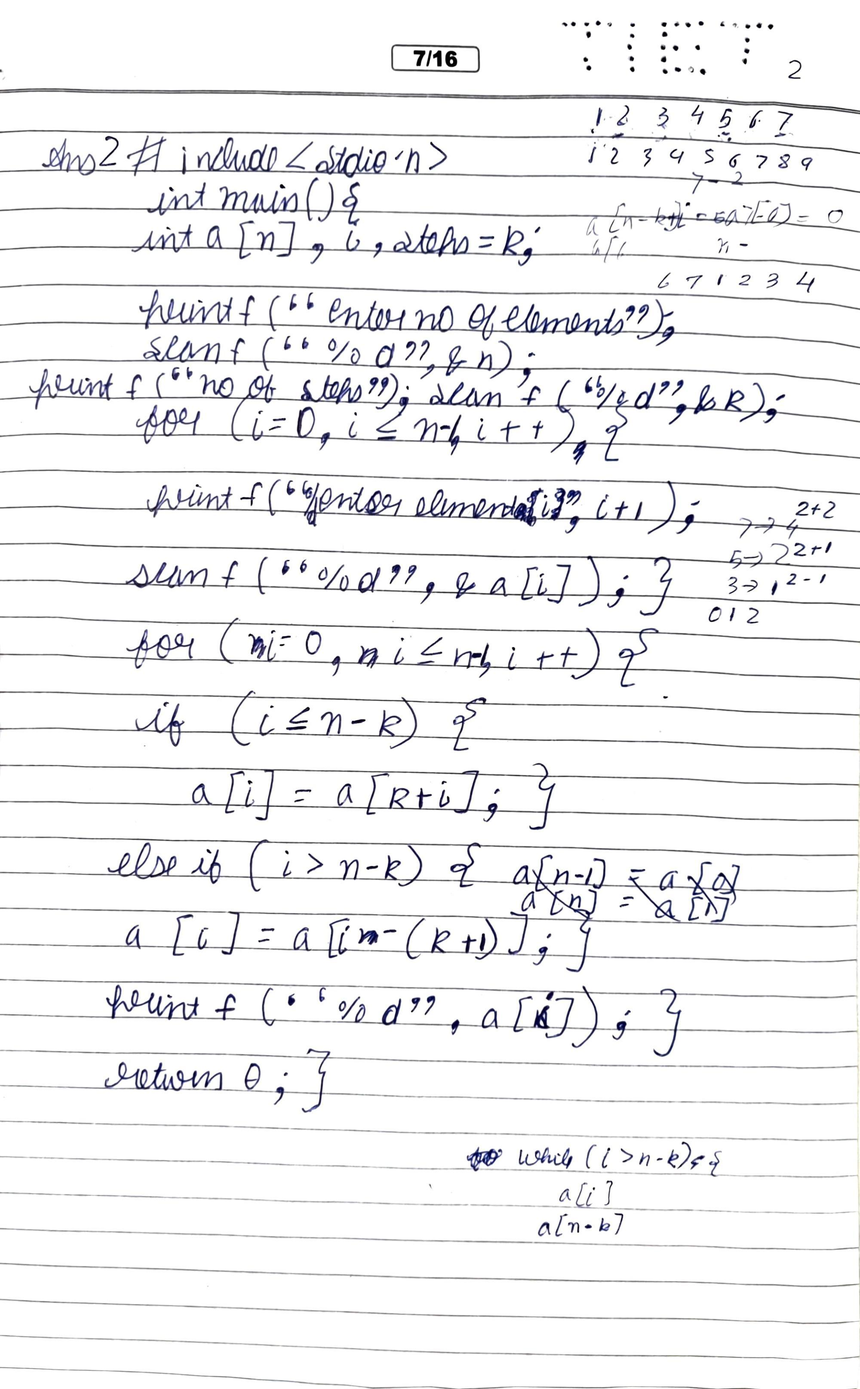cuttings: (509, 851, 745, 930), (513, 487, 544, 527), (464, 1145, 506, 1174), (547, 487, 567, 522), (248, 632, 267, 660), (358, 645, 380, 669), (571, 439, 589, 467)
